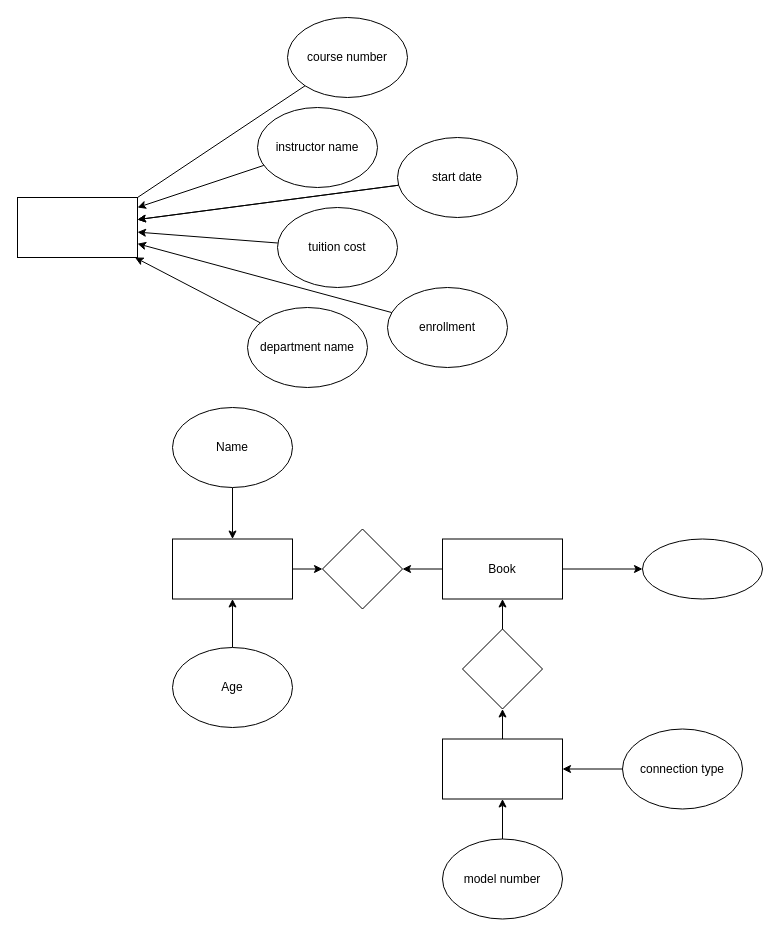
Image size: 780x937. Some labels were removed from this diagram. Each missing label, with the box of its shape:
Author: (172, 538, 292, 599)
course: (16, 196, 138, 258)
Printer: (442, 738, 562, 799)
prints: (462, 628, 542, 709)
title: (642, 538, 762, 599)
writes: (322, 528, 402, 609)
